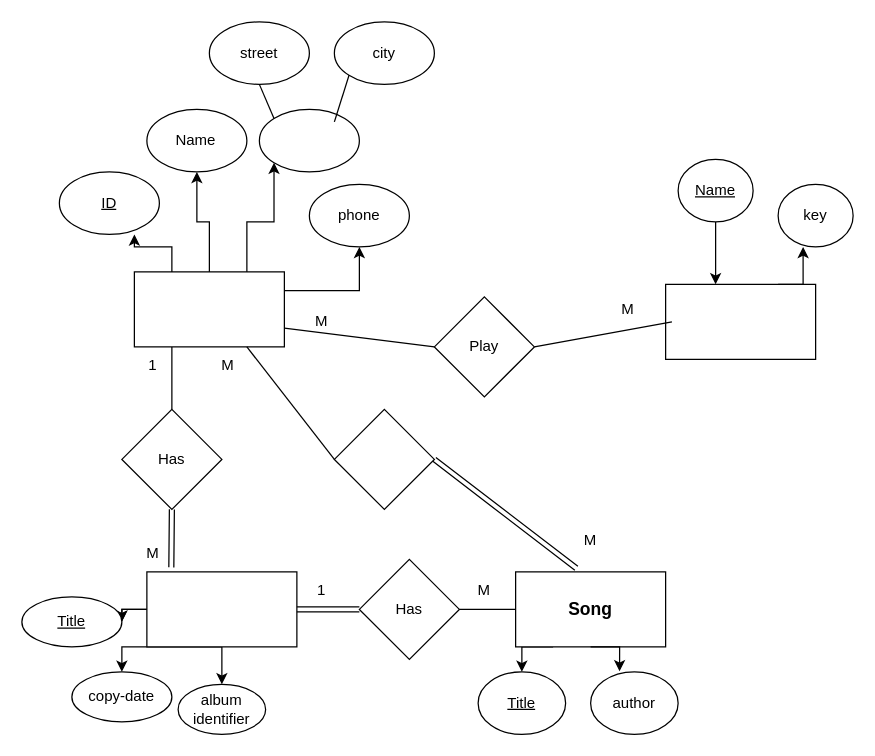
Some shapes in this 875 by 756 pixel diagram are drawn without their labels. Each missing label, with the centre of its shape:
Address: the point at 308,140
Album: the point at 221,609
Instrument: the point at 740,321
Musician: the point at 208,309
performed: the point at 383,458
